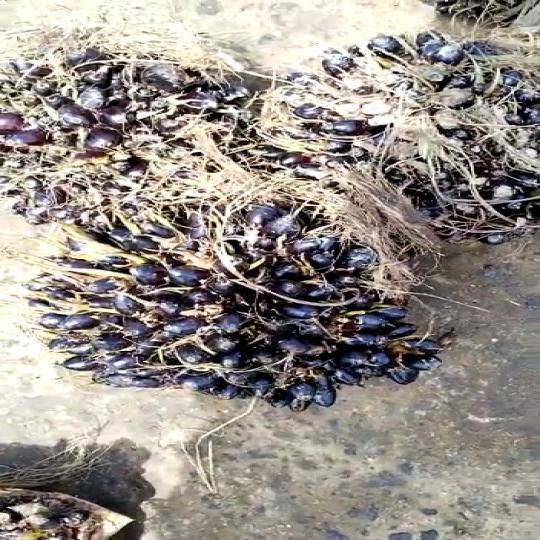mentah: (20, 203, 435, 400), (0, 53, 306, 223), (288, 42, 540, 248)
